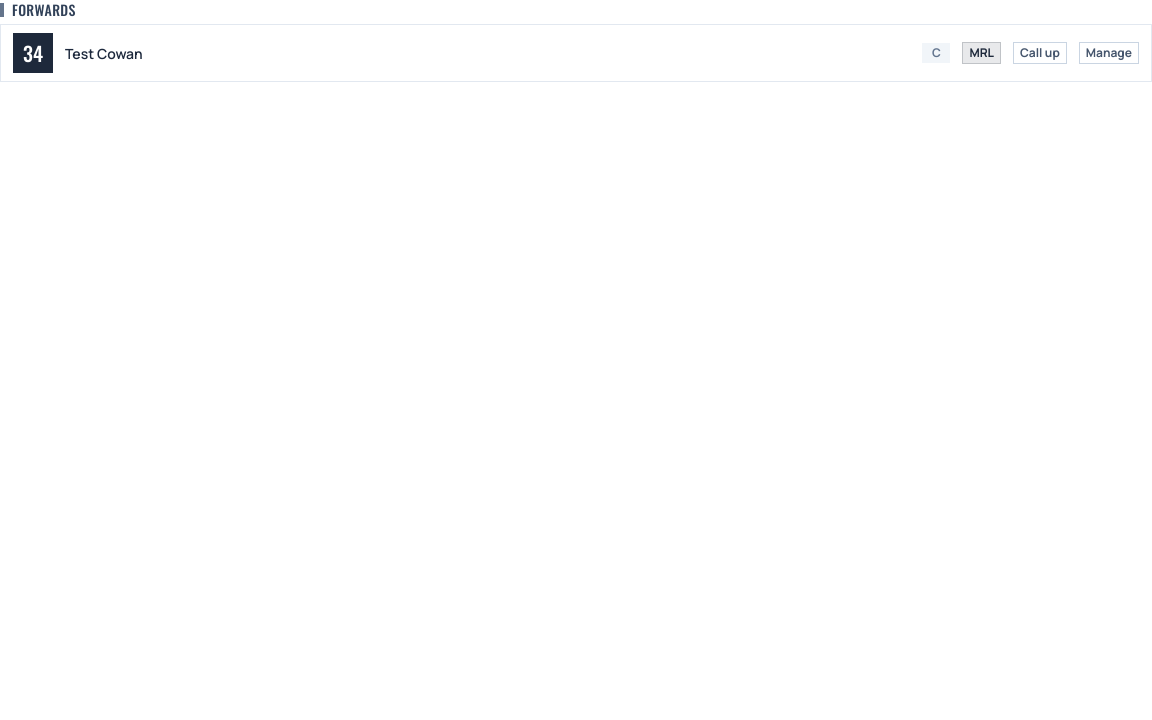
Test: RosterList › lets the team's GM call a player back up from an affiliate
Step 1. Click the button "Call up" → [1040, 53], box [1013,42,1067,64]
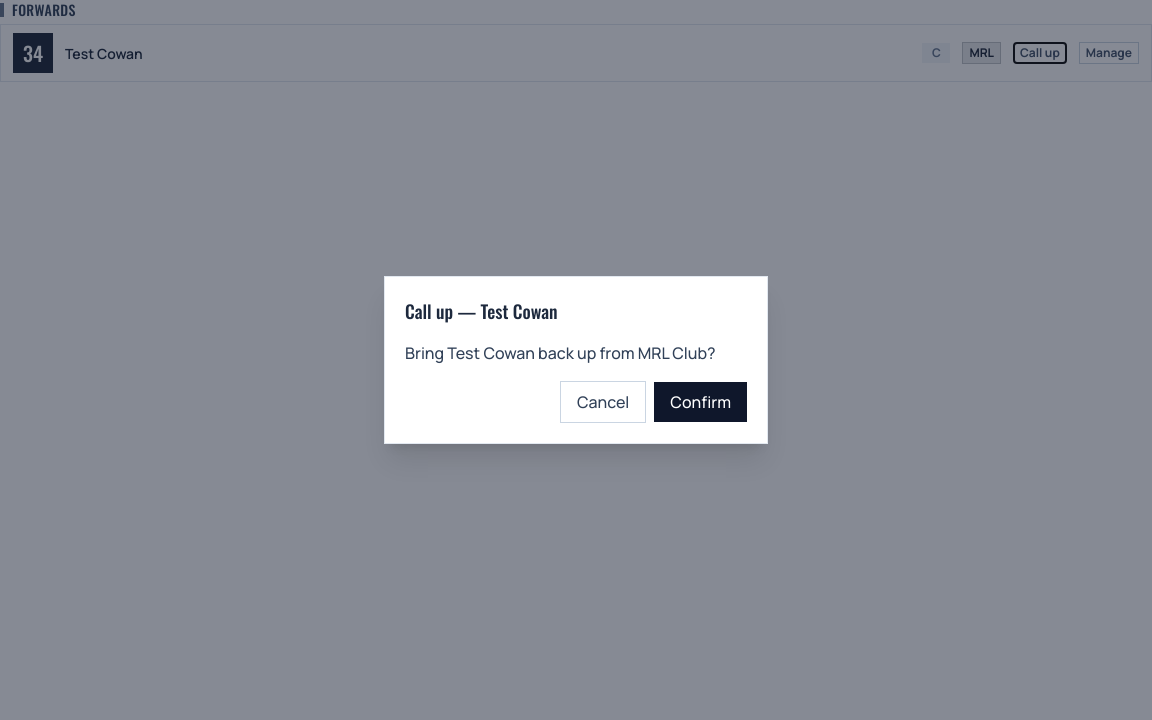
Step 2. Click the button "Confirm" → [701, 402], box [654,382,747,422]
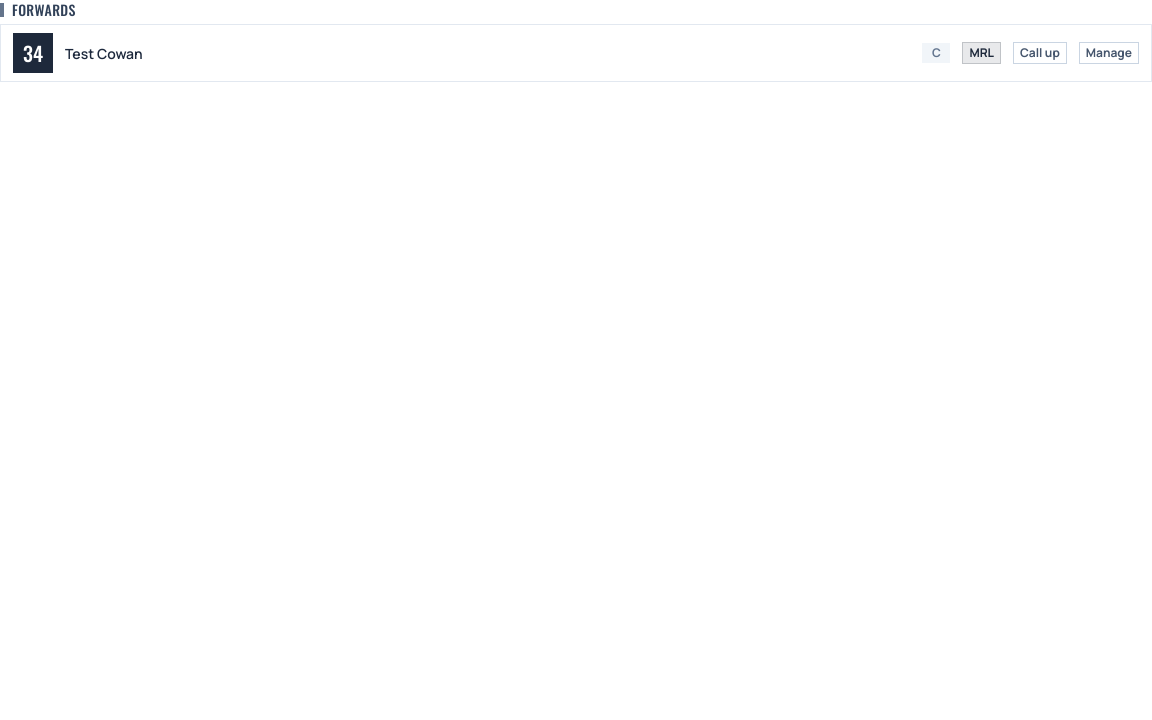
Result: the dialog is gone
